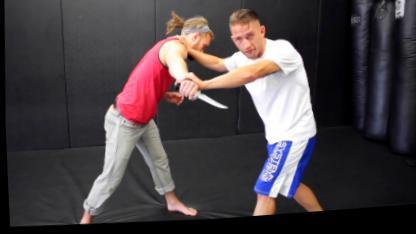knife: (169, 78, 230, 118)
